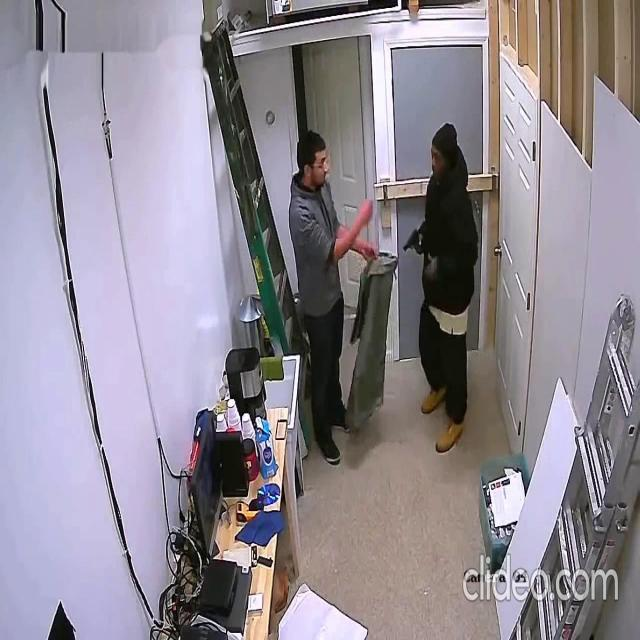gun: (288, 129, 380, 465), (401, 121, 479, 454), (402, 227, 422, 255)
